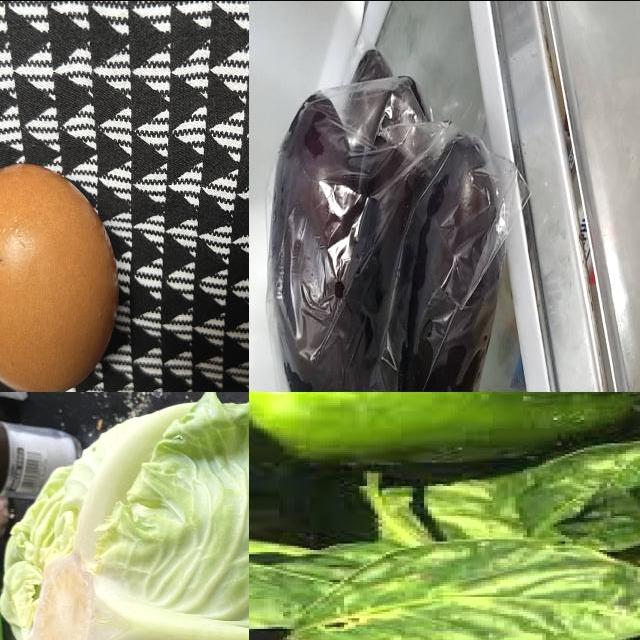bell_pepper: (250, 392, 640, 468)
cabbage: (1, 392, 250, 640)
egg: (1, 158, 120, 392)
eggplant: (270, 97, 367, 392), (357, 78, 441, 392), (385, 191, 502, 392)
